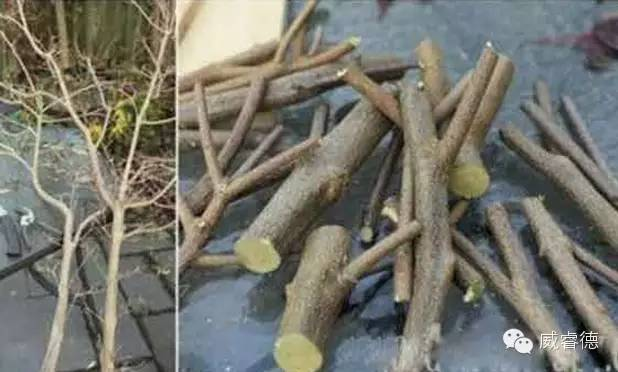wood_together: (188, 41, 618, 328)
